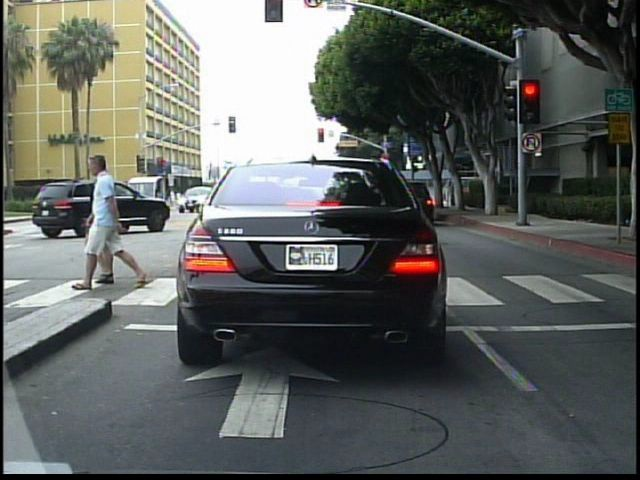person: (87, 150, 150, 293), (82, 148, 112, 289), (443, 176, 456, 211)
